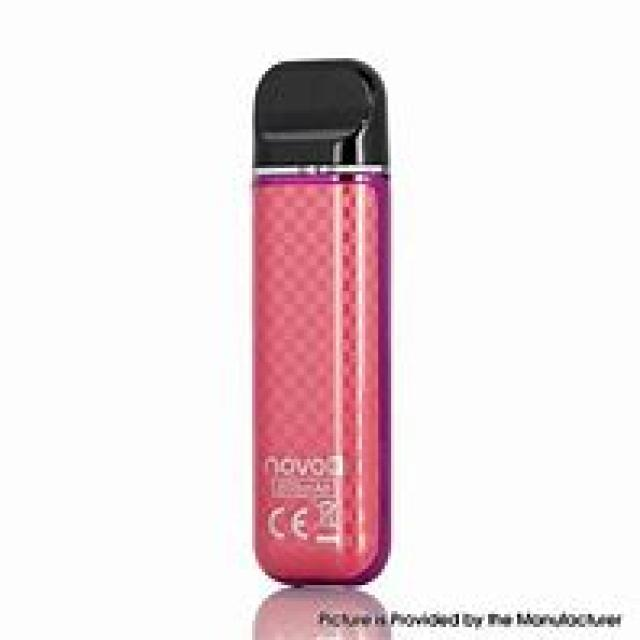Vapes: (249, 55, 391, 585)
